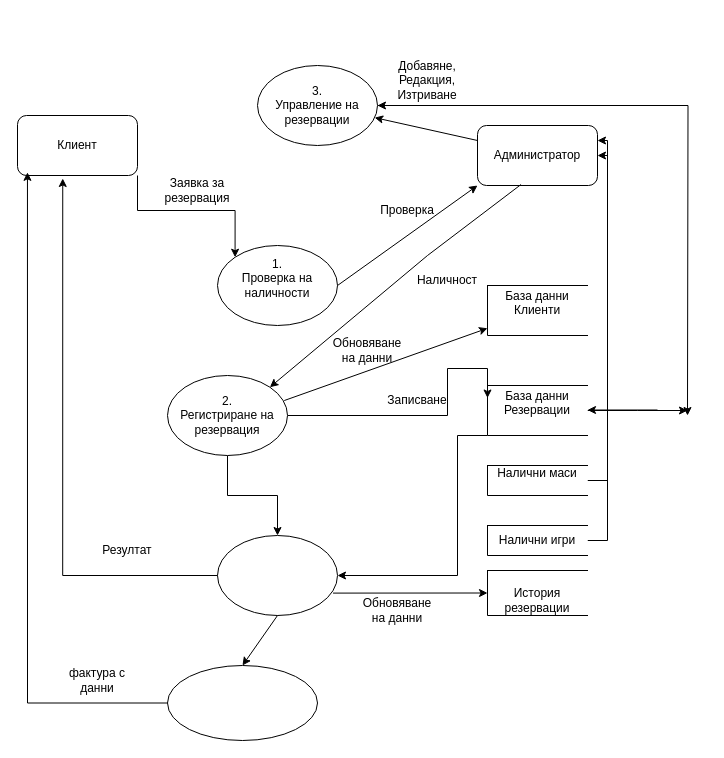
This 724x758 diagram has some shape labels left out. The box of each missing label's shape, as (x1, y1, x2, y2) in pixels:
4. Уведомяване на клиента: (216, 534, 338, 616)
5. Генериране на фактура: (166, 664, 318, 740)
